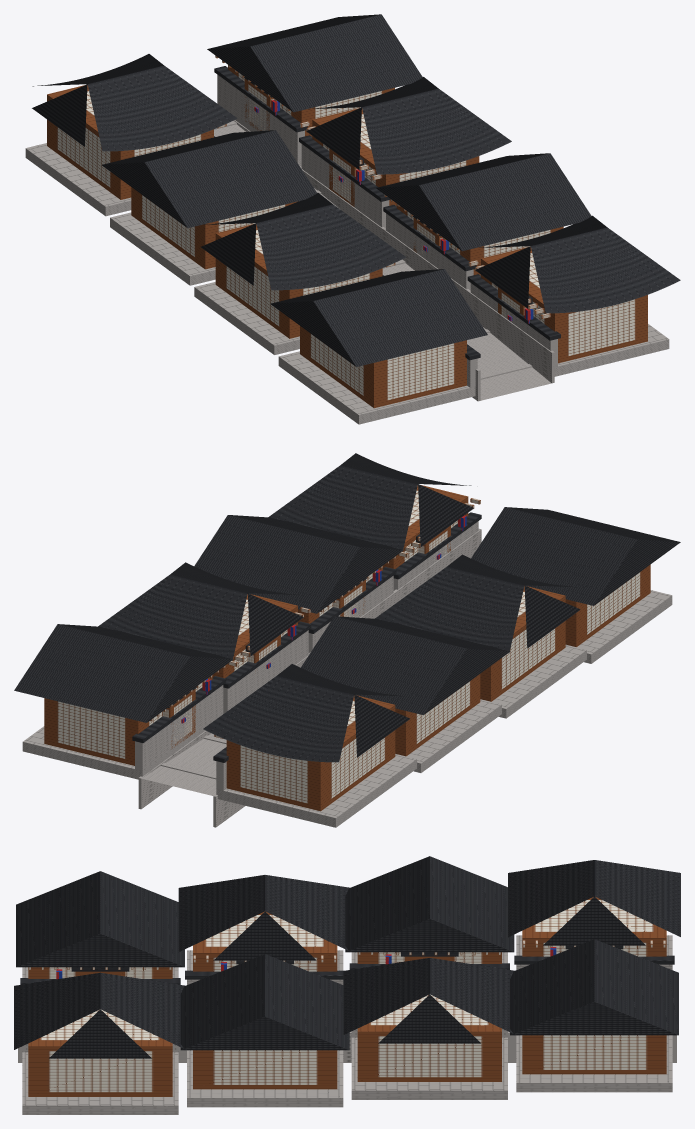
3 renders of one model, top to bottom at view 1: azimuth 30°, elevation 25°; view 2: azimuth 150°, elevation 25°; view 3: azimuth 270°, elevation 25°, orthographic. The views are drawn at different scales.
Parts seen in each view (by area): view 1: node_mesh_west_facades, node_mesh_east_facades, node_mesh_alley_road; view 2: node_mesh_west_facades, node_mesh_east_facades, node_mesh_alley_road; view 3: node_mesh_east_facades, node_mesh_west_facades, node_mesh_alley_road.
Boxes of the visible parts, x1,y1,x2,y2 form: node_mesh_west_facades: [25, 54, 487, 424]; node_mesh_east_facades: [207, 14, 680, 376]; node_mesh_alley_road: [214, 120, 554, 401]; node_mesh_west_facades: [203, 507, 680, 827]; node_mesh_east_facades: [14, 453, 481, 779]; node_mesh_alley_road: [138, 528, 481, 827]; node_mesh_east_facades: [14, 939, 678, 1114]; node_mesh_west_facades: [16, 856, 680, 984]; node_mesh_alley_road: [18, 1031, 676, 1062].
Size of the model in its own units: 17.8 by 6.5 by 32.4.
4 materials, 4 textured.
